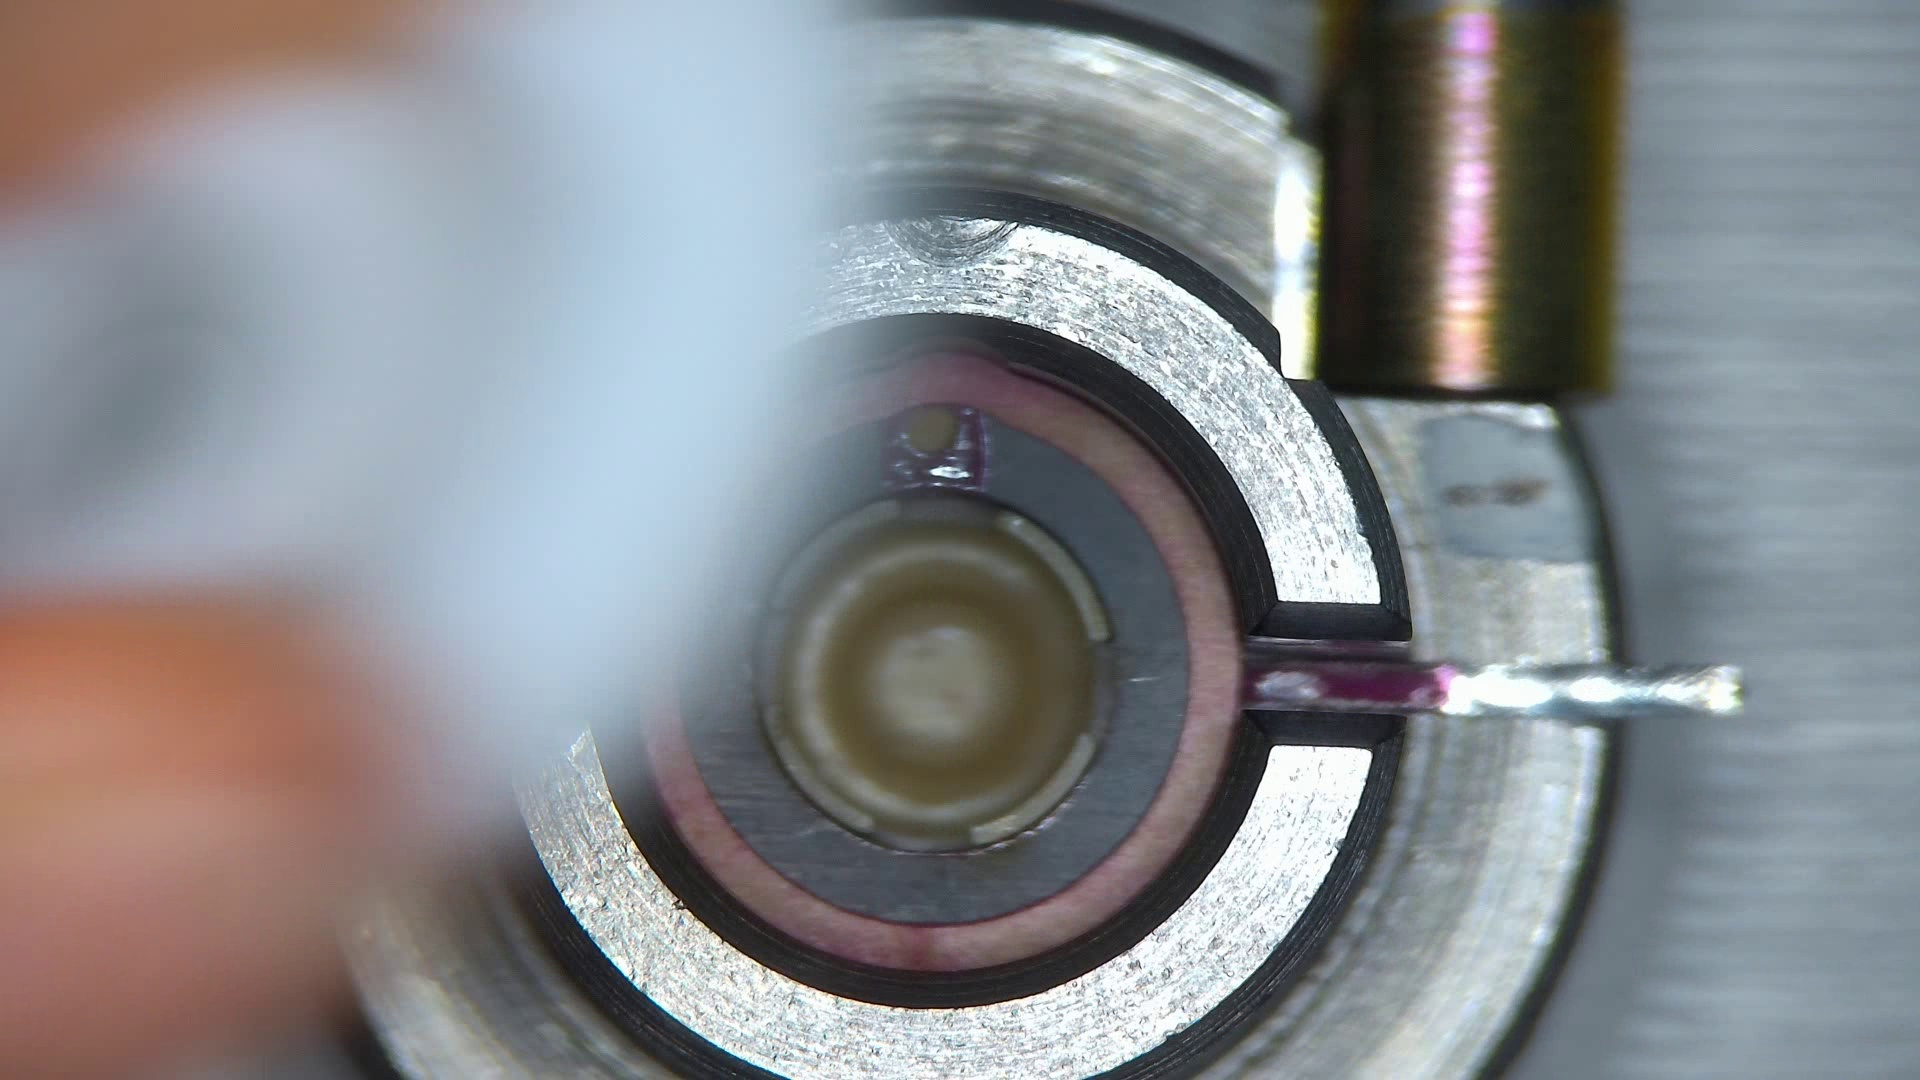GreyOring: (660, 353, 1242, 971)
YellowOring: (679, 408, 1186, 921)
